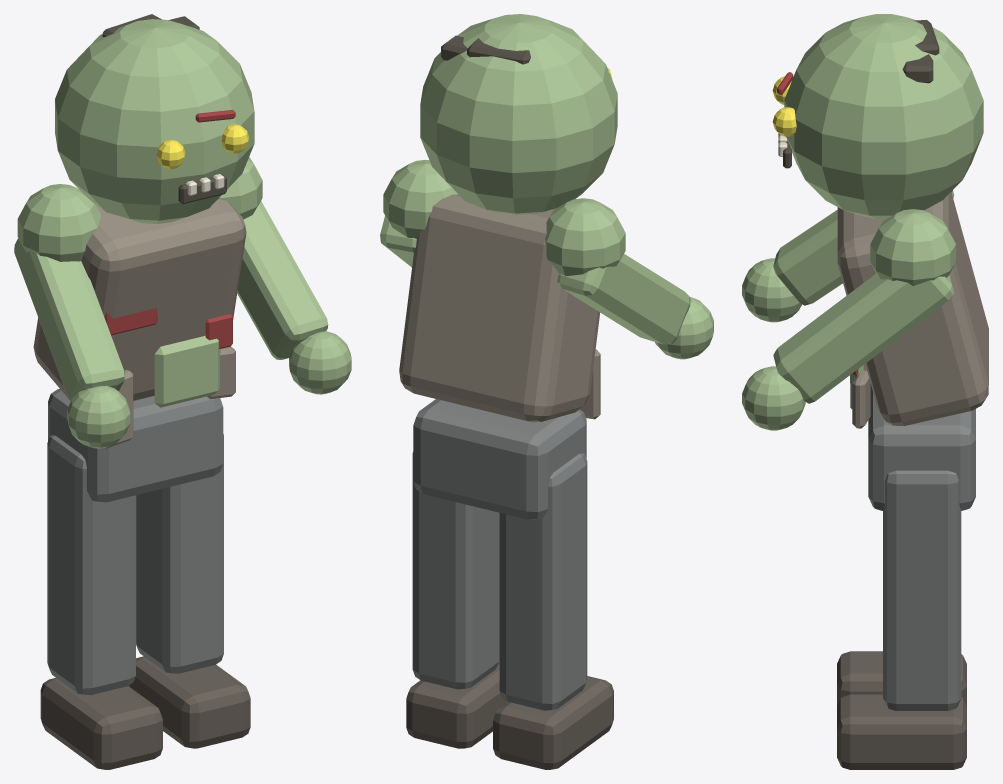
Rendered from ZombieMelee.fbx.
The picture shows the model from 3 angles, left to right: view 1: azimuth 30°, elevation 25°; view 2: azimuth 150°, elevation 25°; view 3: azimuth 270°, elevation 25°; orthographic projection.
Parts seen in each view (by area): view 1: Head, Torso, Leg_L, Leg_R, Hips, Arm_L, Boot_L, Arm_R, Boot_R, Shoulder_L, Belly, Hand_L (+9 smaller); view 2: Torso, Head, Leg_L, Leg_R, Hips, Boot_L, Arm_L, Boot_R, Shoulder_L, Shoulder_R, Hand_L, Arm_R (+2 smaller); view 3: Head, Leg_R, Torso, Arm_R, Boot_R, Hips, Shoulder_R, Arm_L, Hand_R, Hand_L, Boot_L, Rag2 (+3 smaller).
Part boxes in pixels (x1,y1,x2,y2): Head: (55, 19, 254, 223); Torso: (33, 199, 246, 400); Leg_L: (47, 435, 135, 695); Leg_R: (136, 434, 223, 673); Hips: (48, 389, 223, 502); Arm_L: (14, 238, 124, 402); Boot_L: (40, 678, 162, 769); Arm_R: (237, 201, 328, 359); Boot_R: (128, 656, 250, 748); Shoulder_L: (17, 184, 101, 261); Belly: (154, 335, 220, 407); Hand_L: (67, 385, 130, 448); Torso: (399, 194, 599, 422); Head: (420, 14, 617, 214); Leg_L: (499, 453, 587, 710); Leg_R: (412, 452, 499, 689); Hips: (413, 399, 586, 519); Boot_L: (493, 676, 613, 769); Arm_L: (557, 254, 690, 344); Boot_R: (406, 661, 506, 748); Shoulder_L: (545, 198, 625, 276); Shoulder_R: (383, 159, 457, 238); Hand_L: (655, 297, 713, 359); Arm_R: (380, 215, 416, 267); Head: (784, 14, 983, 218); Leg_R: (883, 470, 961, 710); Torso: (837, 192, 988, 425); Arm_R: (773, 273, 954, 403); Boot_R: (837, 694, 966, 769); Hips: (868, 384, 975, 510); Shoulder_R: (870, 209, 955, 285); Arm_L: (773, 190, 954, 305); Hand_R: (742, 366, 805, 430); Hand_L: (742, 258, 801, 322); Boot_L: (837, 651, 966, 705); Rag2: (852, 370, 870, 428).
Bounding box in the file's own units: 0.7083 × 1.75 × 0.5494.
